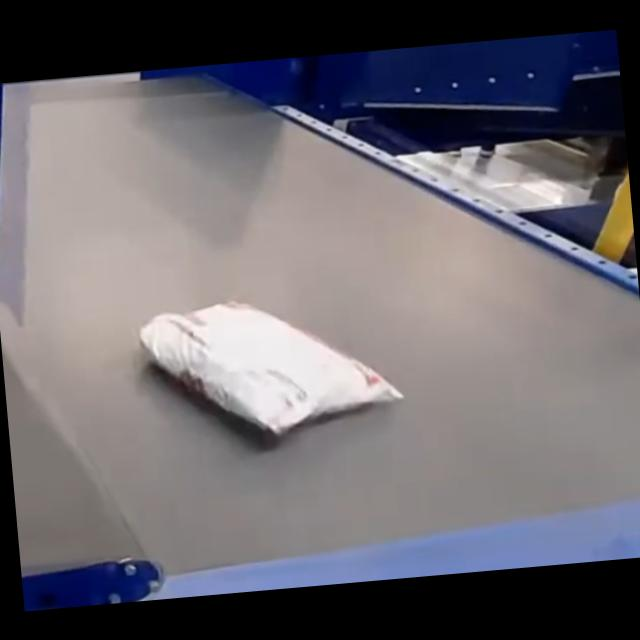mailer: (137, 284, 398, 445)
